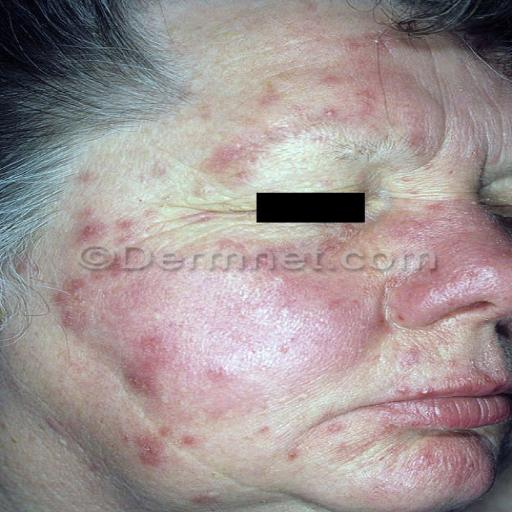Skin_Lesion: (431, 196, 485, 276), (87, 254, 167, 288), (210, 130, 262, 182), (255, 272, 324, 311), (121, 345, 162, 395), (390, 372, 450, 406), (403, 450, 463, 484), (134, 126, 168, 180), (53, 288, 88, 334), (69, 212, 110, 248), (136, 429, 166, 467), (204, 238, 258, 257), (495, 310, 512, 370), (189, 489, 223, 511), (114, 212, 138, 241), (258, 86, 286, 110), (322, 409, 346, 433), (370, 306, 388, 337), (406, 125, 426, 150), (80, 166, 98, 185), (52, 286, 68, 306), (286, 446, 303, 464), (182, 430, 198, 448)
